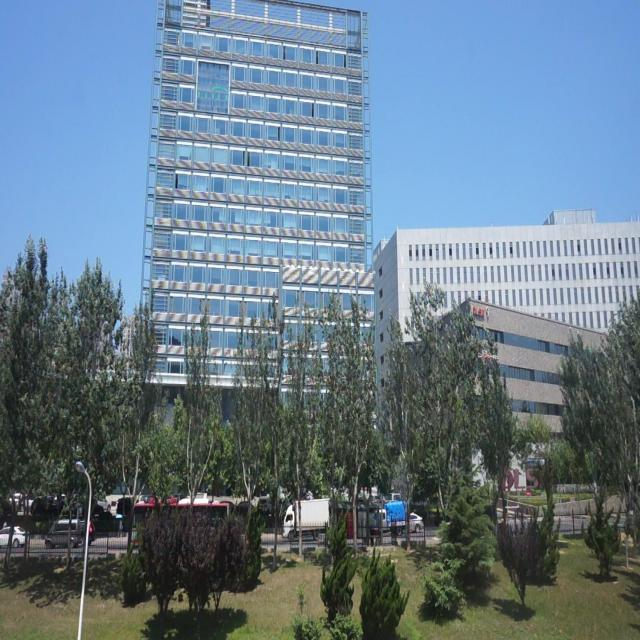UAV: (478, 350, 498, 364)
